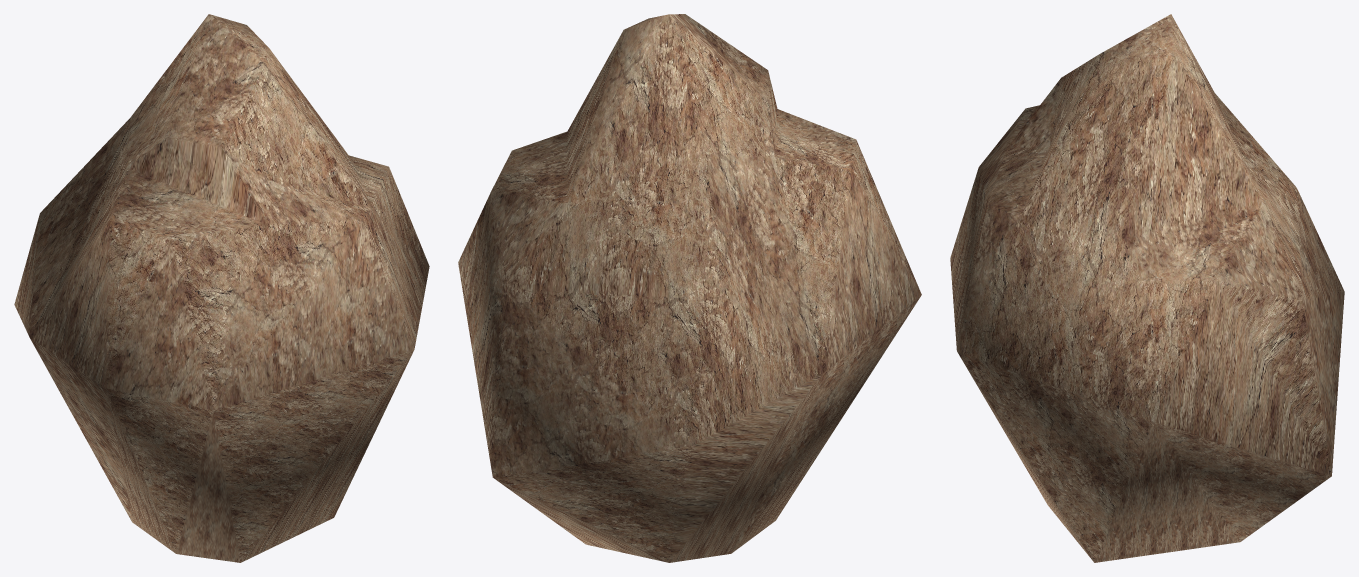
The model's file is rock_tatt_boulder_tan_a1_l2.fbx.
3 views of the same model, side by side, from view 1: azimuth 30°, elevation 25°; view 2: azimuth 150°, elevation 25°; view 3: azimuth 270°, elevation 25° (orthographic). The views are drawn at different scales.
Parts seen in each view (by area): view 1: mesh_node; view 2: mesh_node; view 3: mesh_node.
Boxes of the visible parts, x1,y1,x2,y2 form: mesh_node: (14, 14, 429, 562); mesh_node: (458, 14, 921, 562); mesh_node: (950, 14, 1344, 562).
Size of the model in its own units: 5.41 by 6.67 by 4.72.
